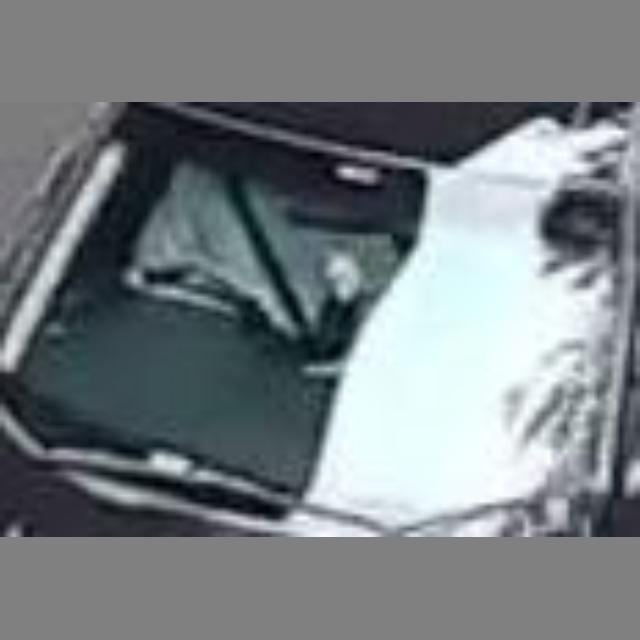pakai: (132, 152, 419, 405)
